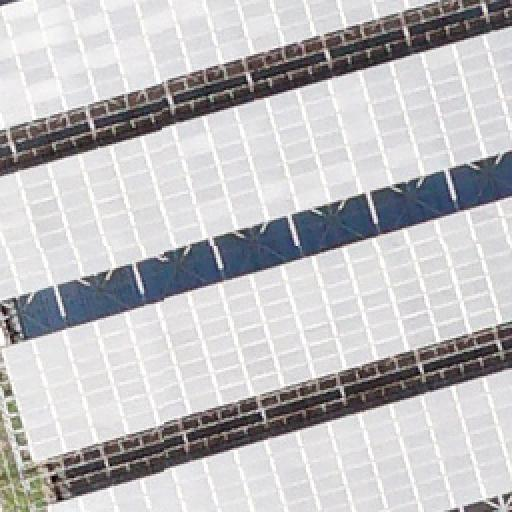solar-panel: (0, 26, 512, 302), (0, 198, 512, 462), (48, 368, 512, 512), (0, 0, 444, 132)
